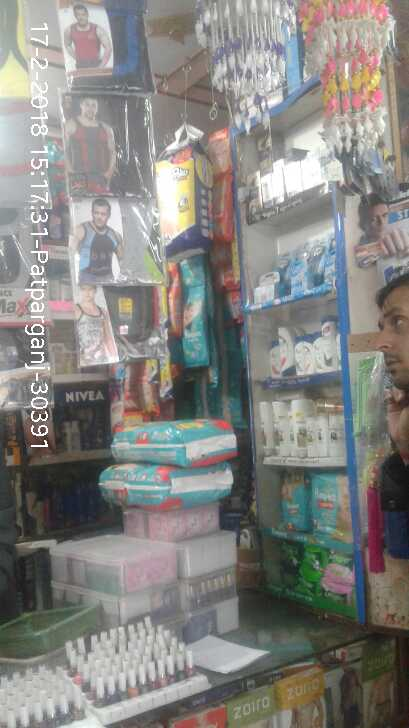venus: (303, 241, 323, 291), (255, 271, 278, 301), (323, 241, 335, 283), (292, 249, 303, 291), (276, 253, 289, 268)
